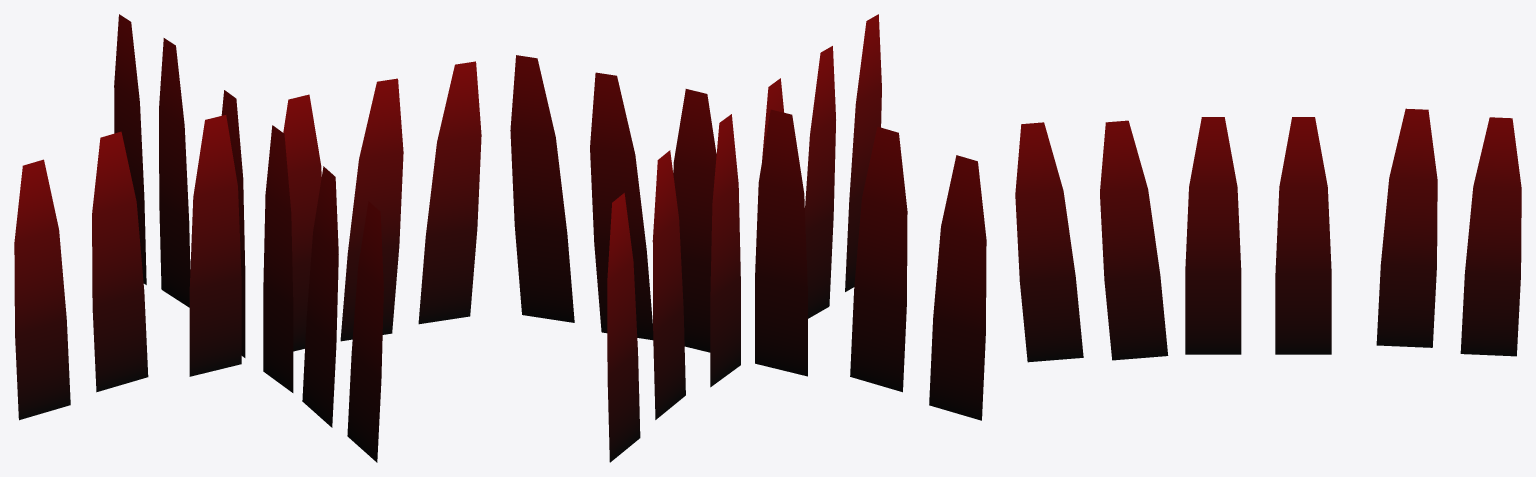
The model's file is Grass2.fbx.
3 renders of one model, left to right at view 1: azimuth 30°, elevation 25°; view 2: azimuth 150°, elevation 25°; view 3: azimuth 270°, elevation 25°, orthographic. The views are drawn at different scales.
Visible parts, largest first — view 1: Cube; view 2: Cube; view 3: Cube.
Boxes of the visible parts, left/top/right/bottom form: Cube: left=14, top=14, right=481, bottom=462; Cube: left=510, top=14, right=986, bottom=462; Cube: left=1015, top=108, right=1521, bottom=362.
Bounding box in the file's own units: 48.96 × 27.05 × 48.96.
